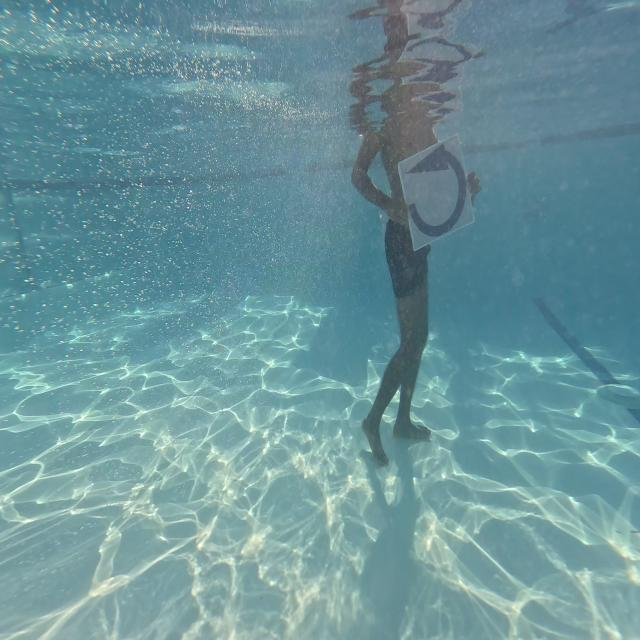blue_side: (394, 128, 475, 246)
